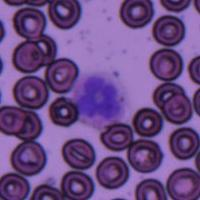N: (74, 71, 129, 129)
